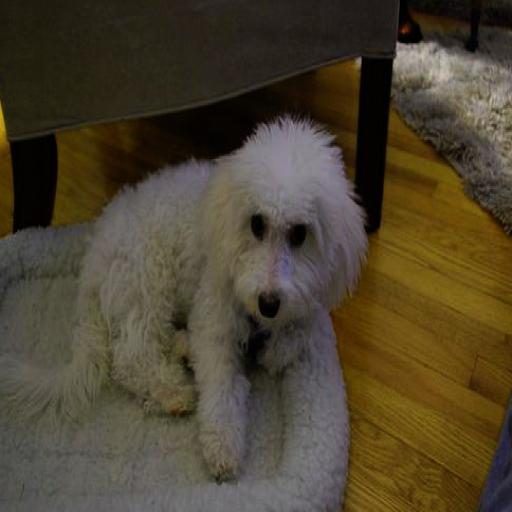dog_face: (224, 127, 354, 328)
